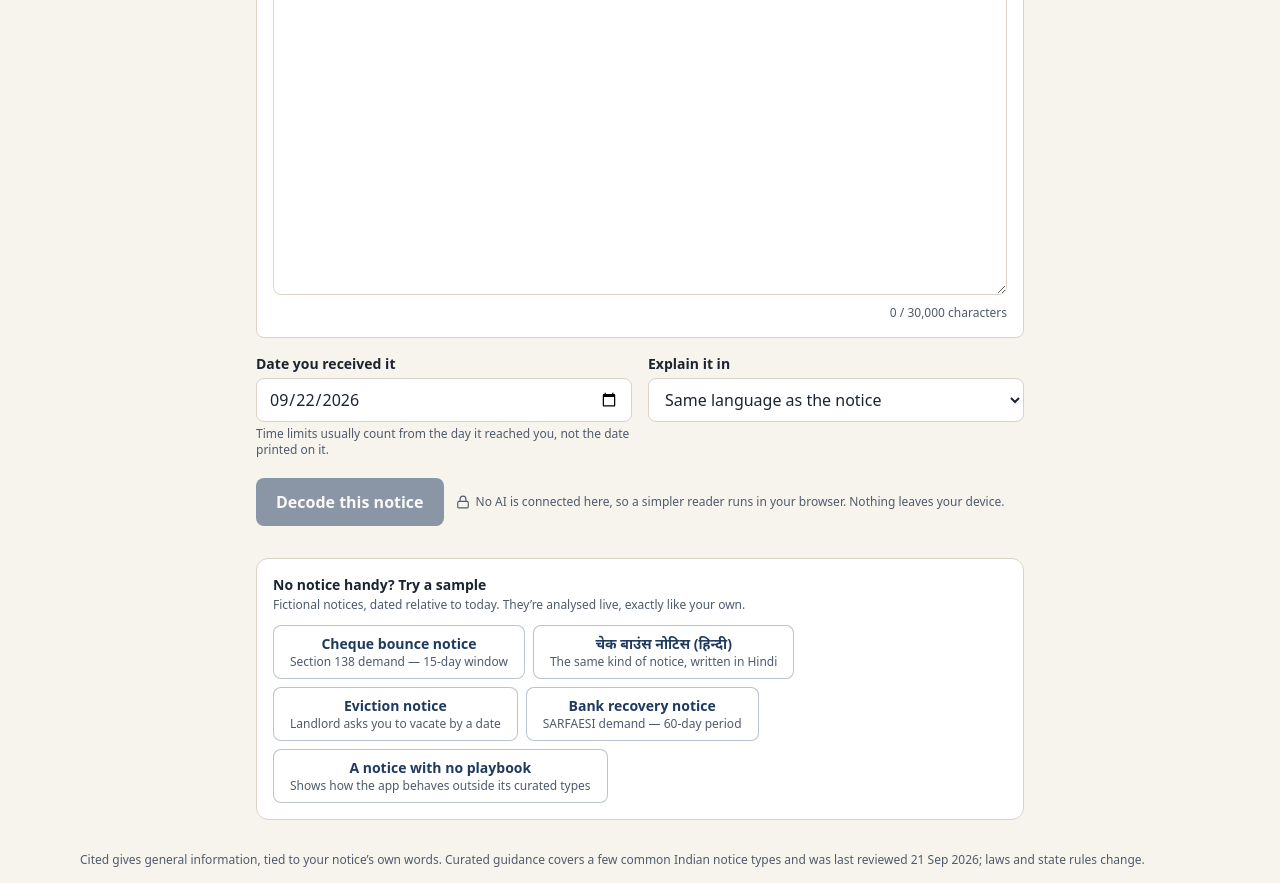
rule-based path (no AI configured) › decodes a sample end to end and labels the reading as rule-based
The image size is (1280, 883).
(page scrolled)
Click the button "Cheque bounce notice Section 138 demand — 15-day window". click: (399, 652)
box: [273, 625, 525, 679]
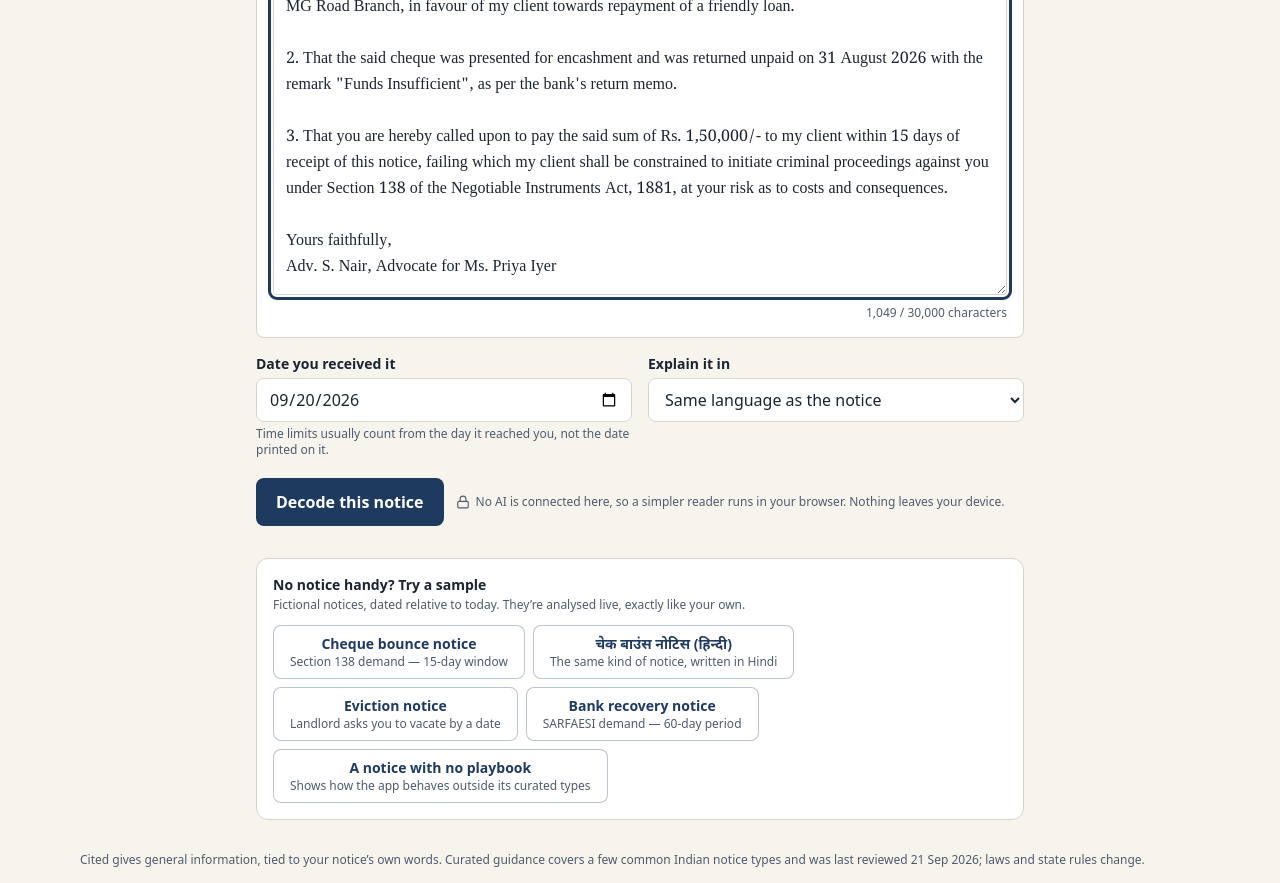
Click the button "Decode this notice". click: (350, 502)
box: [256, 478, 444, 526]
(page scrolled)
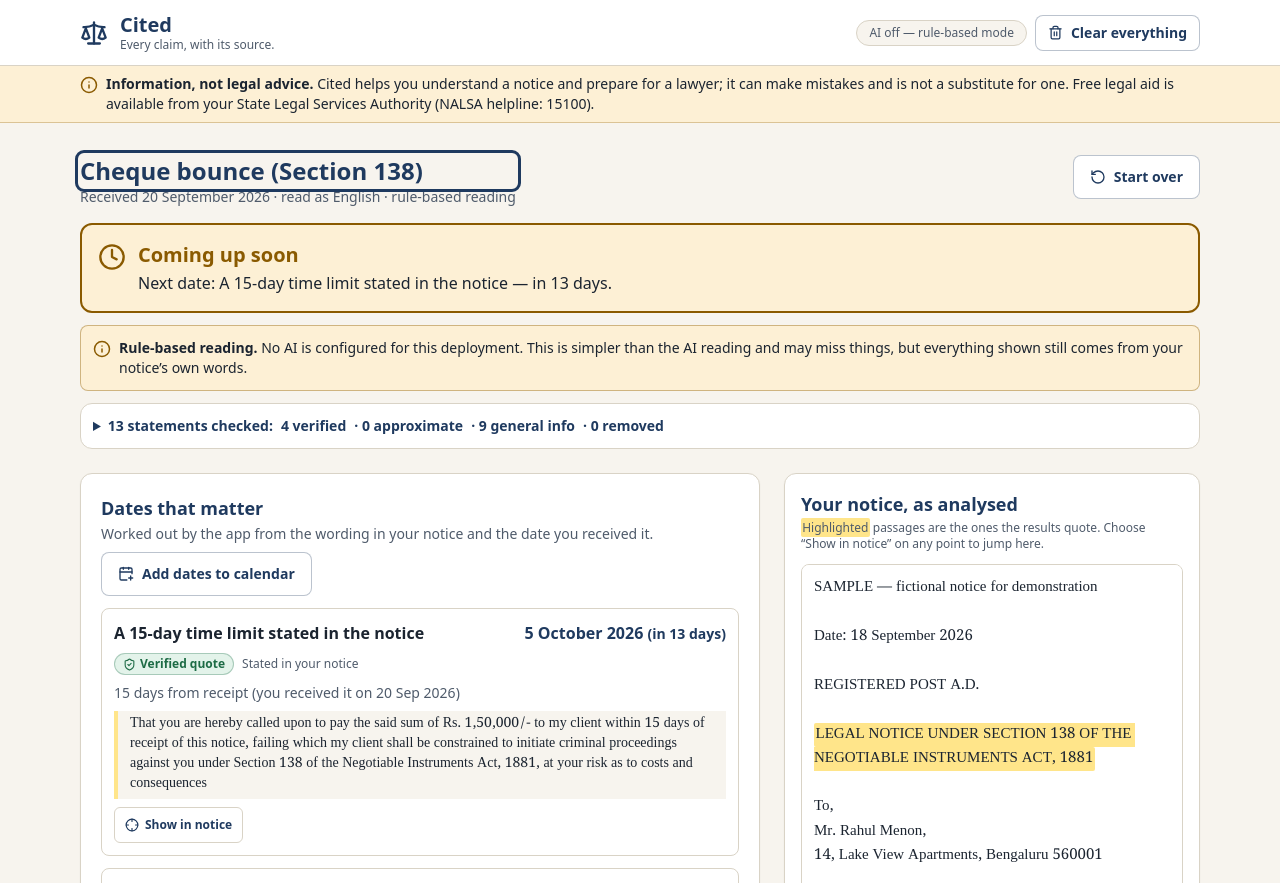
Expected: the heading "Cheque bounce (Section 138)" is shown, [80, 154, 423, 187]
Expected: the text "Rule-based reading." is shown, [119, 338, 258, 357]
Expected: the heading "Dates that matter" is shown, [101, 496, 263, 520]
